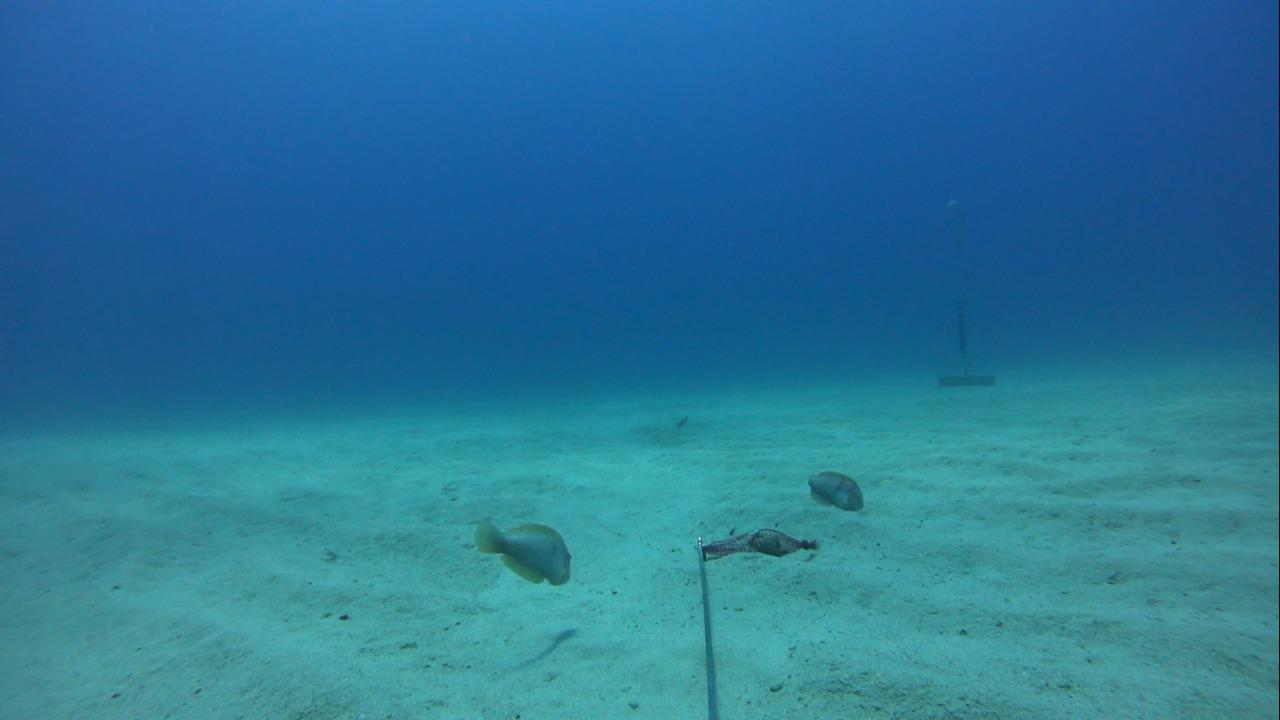raor: (465, 511, 577, 589), (794, 460, 877, 520)
